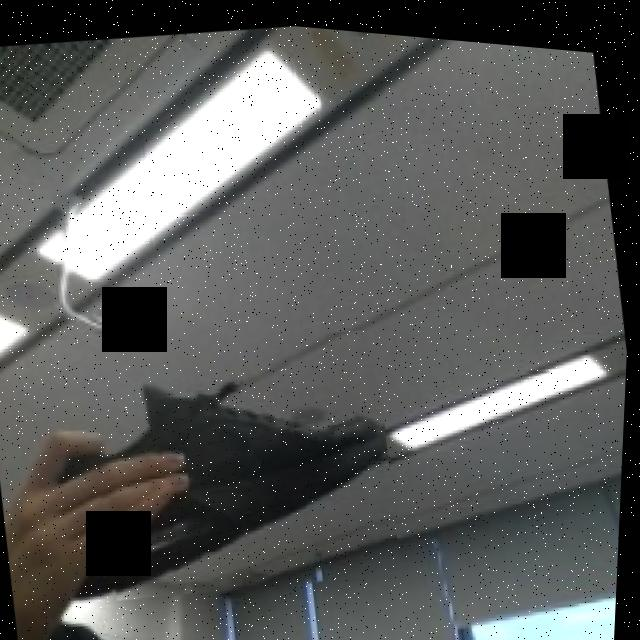shoe: (72, 302, 416, 619)
